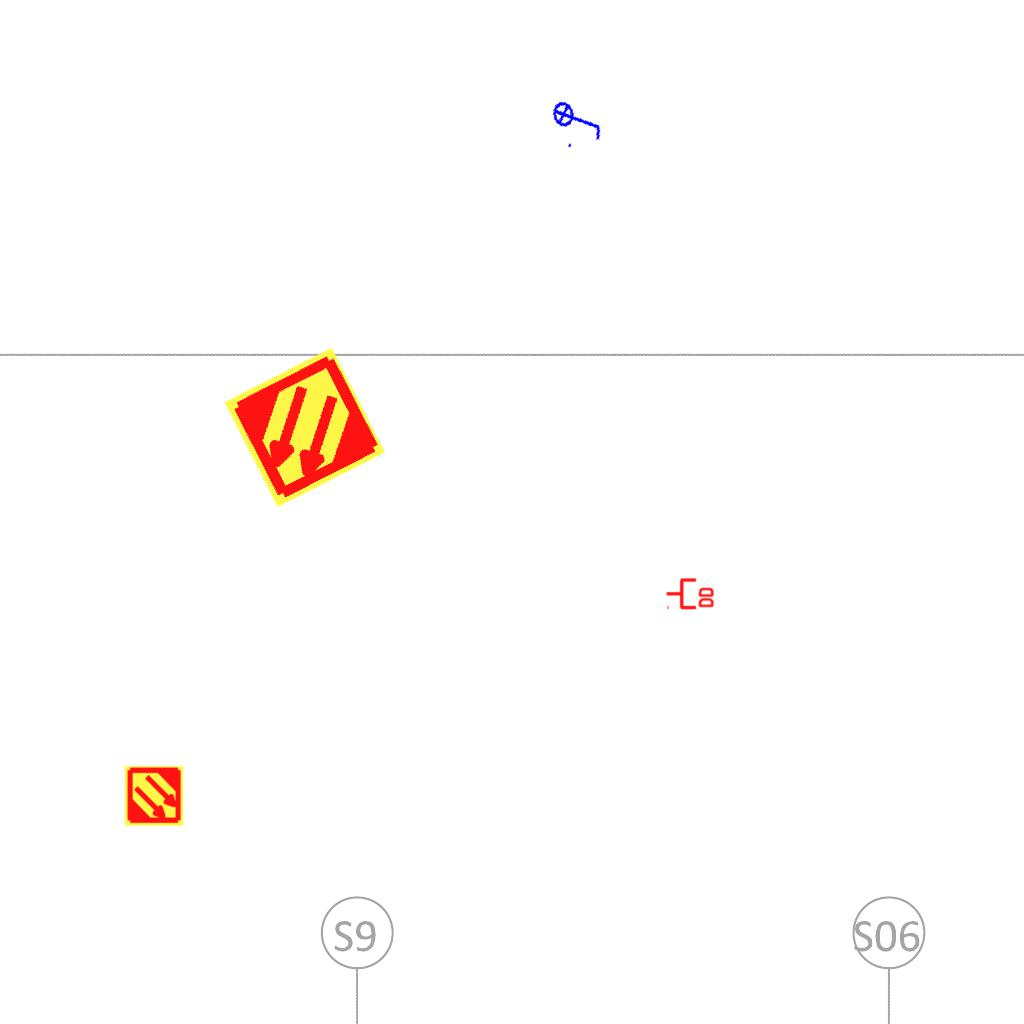ASR_Ansaugrauchmelder: (220, 343, 389, 512), (123, 765, 185, 827)
Ausschalter_beleuchtet: (548, 87, 608, 153)
Datenanschluss_zweifach: (665, 576, 716, 610)
